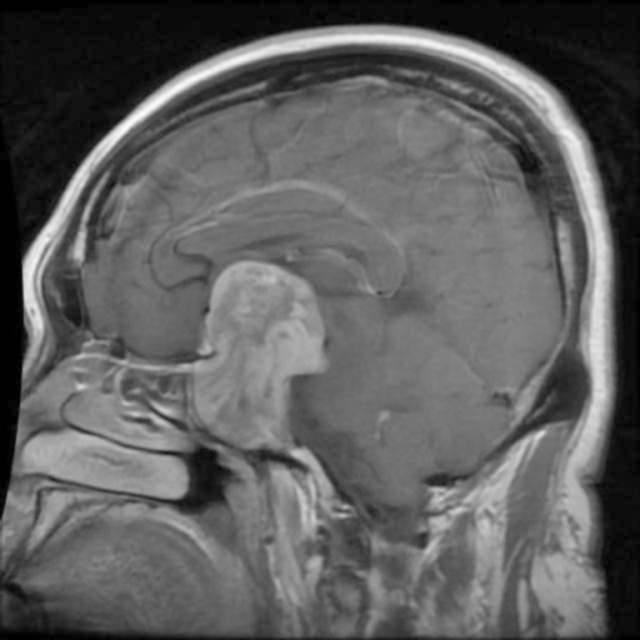no tumor: (181, 252, 331, 458)
